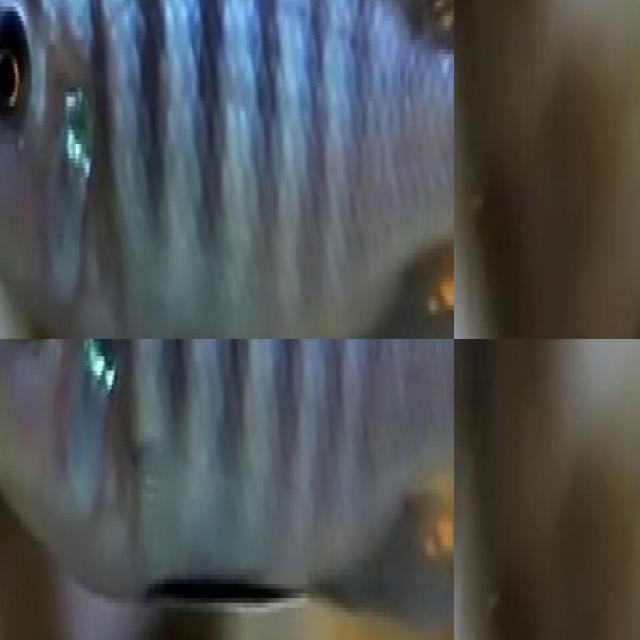fish: (0, 0, 454, 339), (0, 339, 454, 640)
